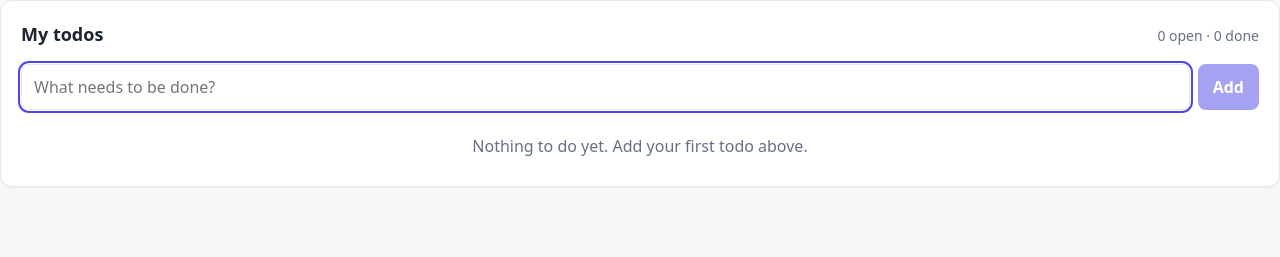
Test case: TodoApp › shows the API error message when an action fails
Type "x" into the field with test id "new-todo-input" at (605,87), box [21,64,1190,110]
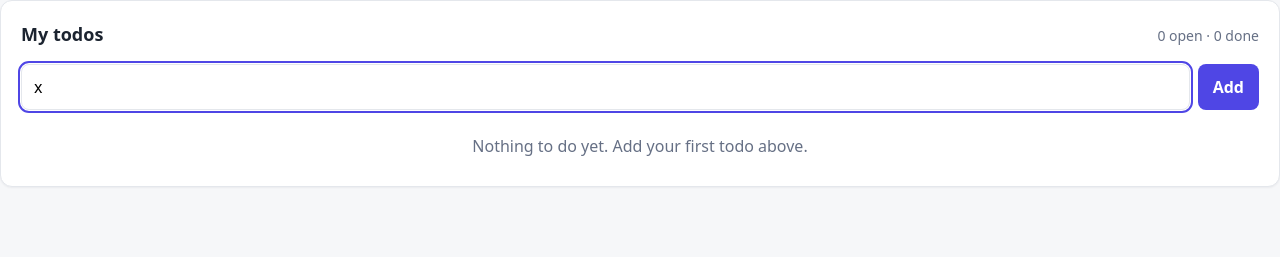
Click the button with test id "add-todo-button" at (1228,87), box [1198,64,1259,110]
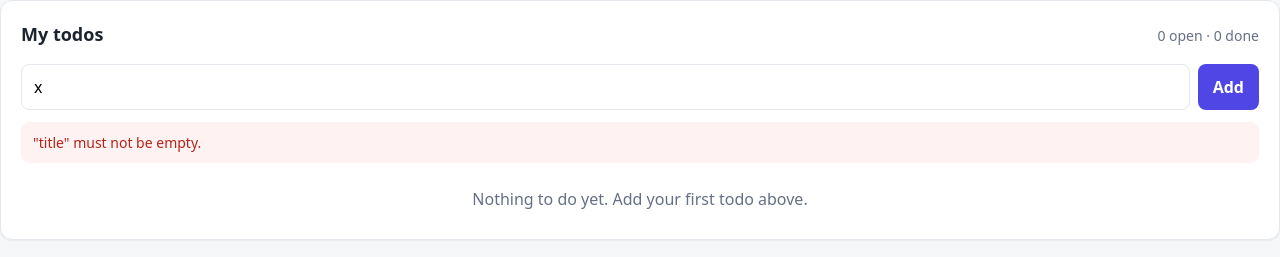
Now the message reads "\"title\" must not be empty.", box [33,133,201,152]
